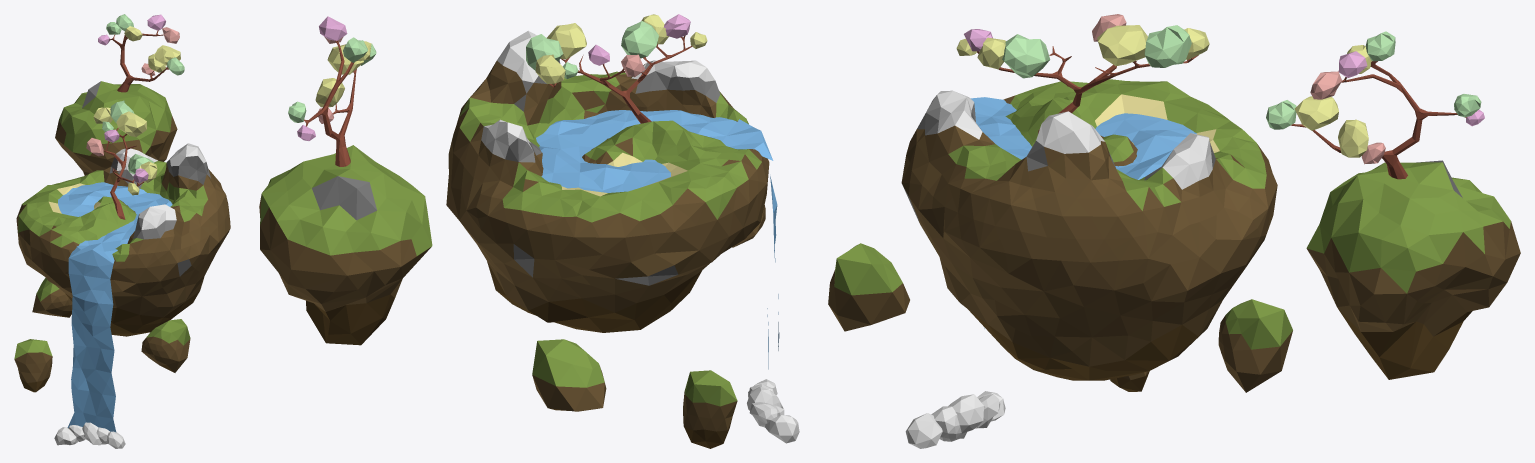
File: island.glb
3 renders of one model, left to right at view 1: azimuth 30°, elevation 25°; view 2: azimuth 150°, elevation 25°; view 3: azimuth 270°, elevation 25°, orthographic. The views are drawn at different scales.
Parts seen in each view (by area): view 1: island, water, island1, Icosphere.011, Icosphere.009, water catch, Icosphere; view 2: island, island1, water, Icosphere, Icosphere.009, water catch; view 3: island, island1, water, Icosphere.011, Icosphere, water catch.
Boxes of the visible parts, bbox=[...] form: island: bbox=[16, 100, 230, 336]; water: bbox=[58, 182, 172, 432]; island1: bbox=[55, 14, 184, 175]; Icosphere.011: bbox=[141, 319, 190, 372]; Icosphere.009: bbox=[14, 339, 52, 392]; water catch: bbox=[54, 422, 125, 448]; Icosphere: bbox=[32, 278, 72, 317]; island: bbox=[446, 14, 769, 332]; island1: bbox=[259, 16, 432, 345]; water: bbox=[536, 110, 779, 369]; Icosphere: bbox=[532, 339, 606, 411]; Icosphere.009: bbox=[683, 370, 737, 448]; water catch: bbox=[747, 379, 799, 443]; island: bbox=[901, 14, 1277, 380]; island1: bbox=[1266, 31, 1520, 379]; water: bbox=[970, 97, 1196, 328]; Icosphere.011: bbox=[828, 243, 909, 331]; Icosphere: bbox=[1218, 299, 1292, 392]; water catch: bbox=[905, 391, 1005, 448].
Bounding box in the file's own units: 24.83 × 31.22 × 36.59.
